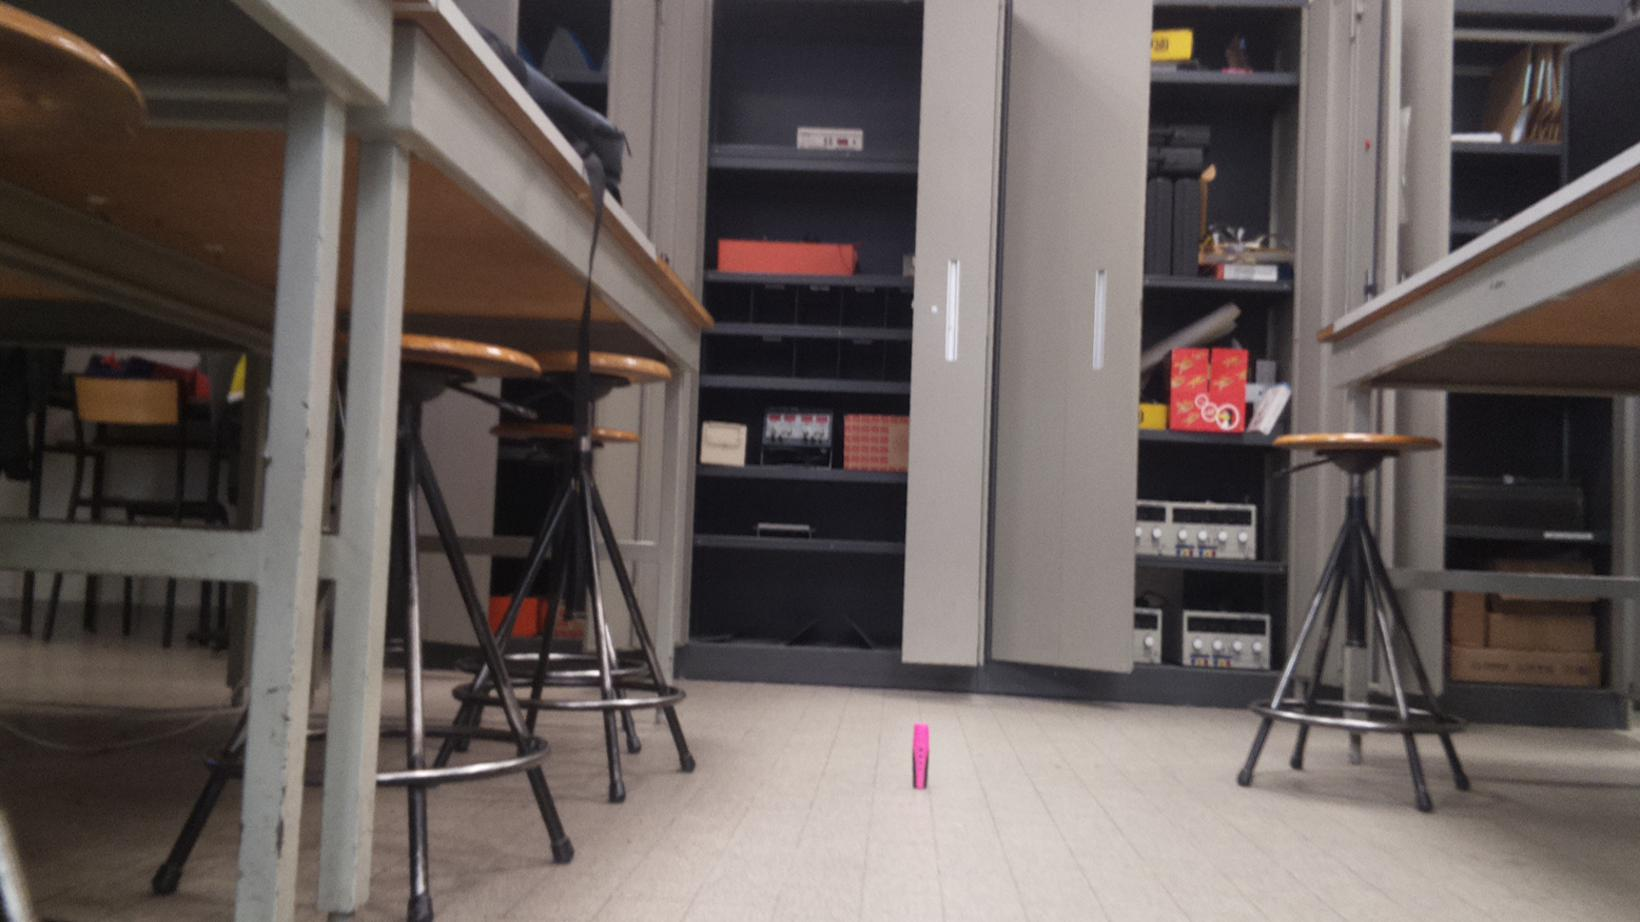small: (910, 720, 932, 790)
